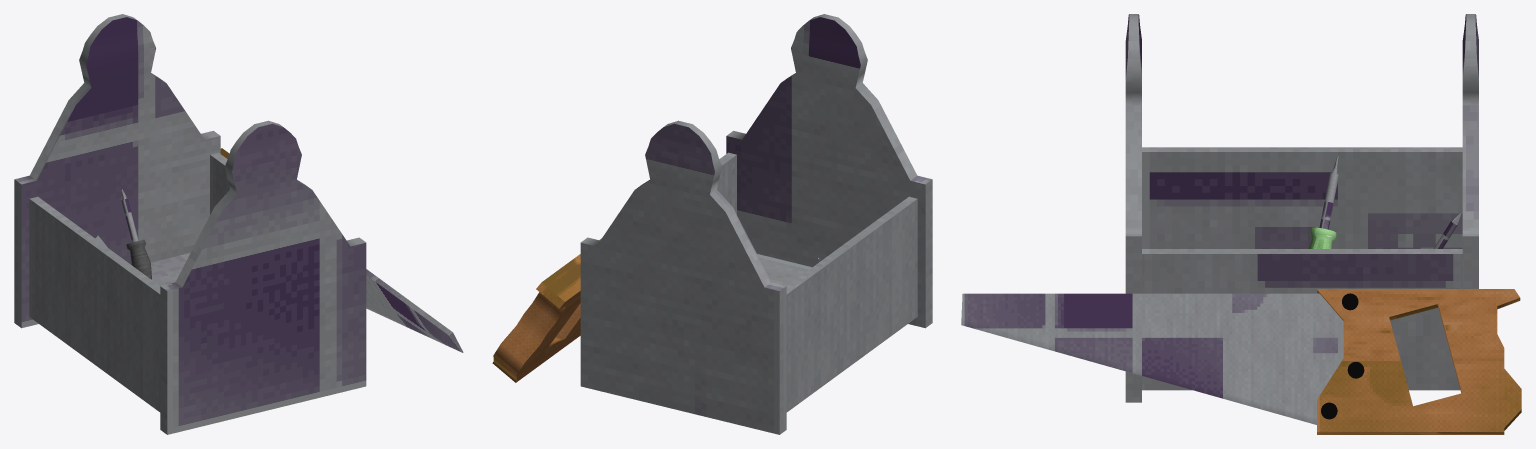
File: toolBox.fbx
3 renders of one model, left to right at view 1: azimuth 30°, elevation 25°; view 2: azimuth 150°, elevation 25°; view 3: azimuth 270°, elevation 25°, orthographic. The views are drawn at different scales.
Visible parts, largest first — view 1: ToolBox; view 2: ToolBox; view 3: ToolBox.
Boxes of the visible parts, x1=… form: ToolBox: x1=14, y1=14, x2=463, y2=434; ToolBox: x1=492, y1=14, x2=932, y2=434; ToolBox: x1=961, y1=14, x2=1521, y2=434.
Size of the model in its own units: 0.5125 by 0.5066 by 0.7782.
Materials: 7 (6 with a texture image).
